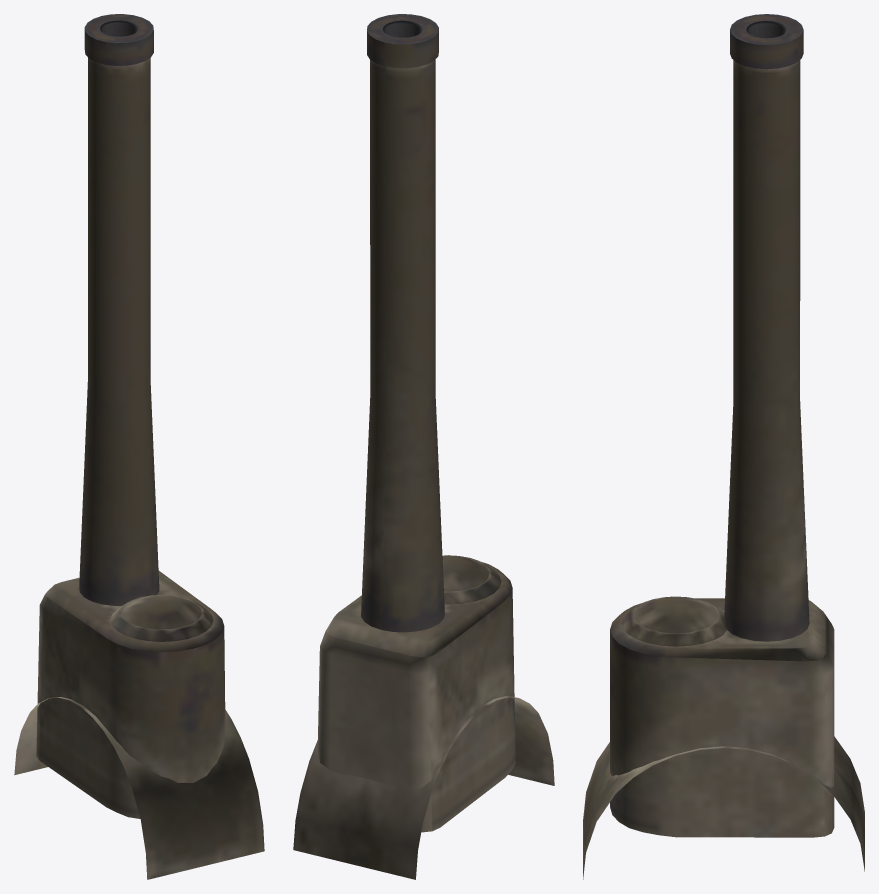
File: Gun_01.glb
The picture shows the model from 3 angles, left to right: view 1: azimuth 30°, elevation 25°; view 2: azimuth 150°, elevation 25°; view 3: azimuth 270°, elevation 25°; orthographic projection. The views are drawn at different scales.
Visible parts, largest first — view 1: set_0_group_0; view 2: set_0_group_0; view 3: set_0_group_0.
Part boxes in pixels (box(x1,y1,x2,y2)): set_0_group_0: box(14, 14, 264, 879); set_0_group_0: box(293, 14, 554, 879); set_0_group_0: box(583, 14, 864, 879).
Bounding box in the file's own units: 0.1821 × 1.15 × 0.3567.
Materials: 1 (1 with a texture image).
